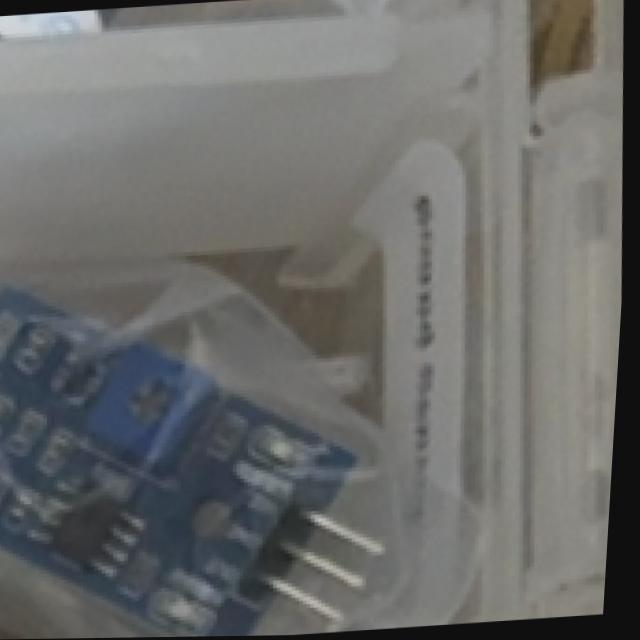Sound Sensor: (0, 250, 403, 640)
